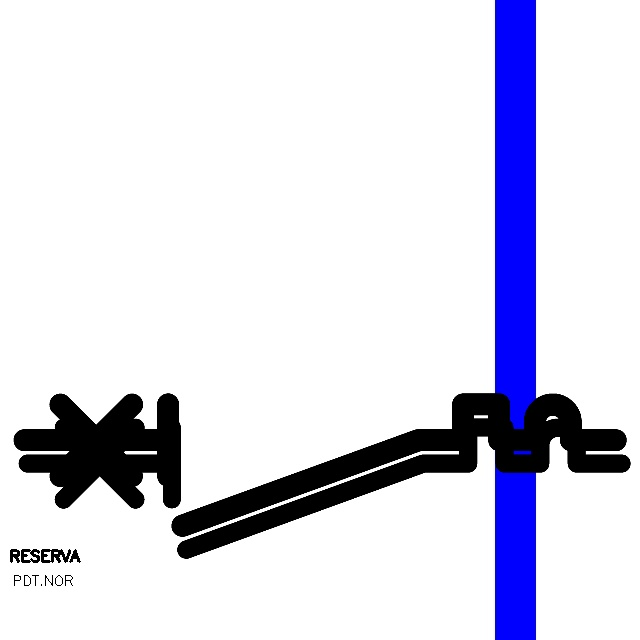interruptor_termomagnetico: (12, 412, 637, 565), (9, 389, 631, 541)
